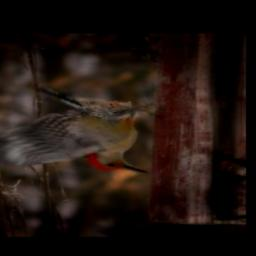Woodpecker: (0, 87, 150, 176)
